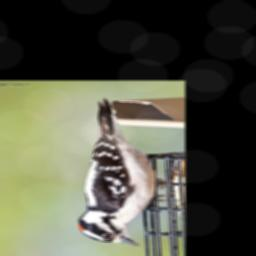Woodpecker: (75, 95, 167, 247)
